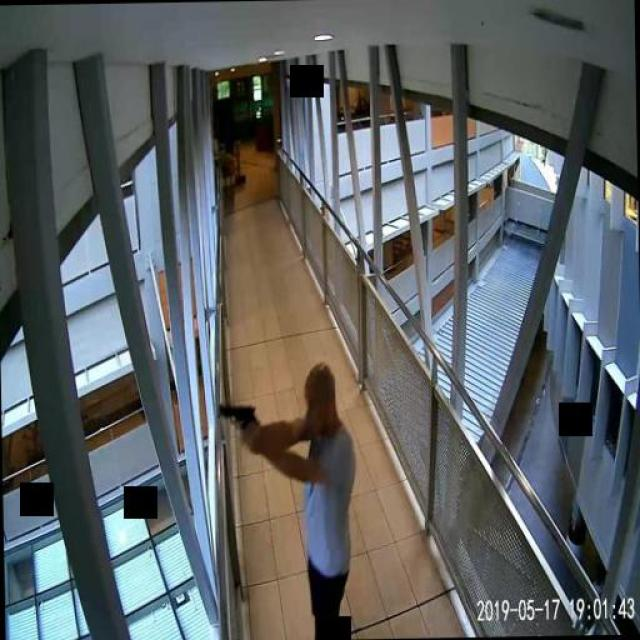gun: (216, 400, 255, 445)
